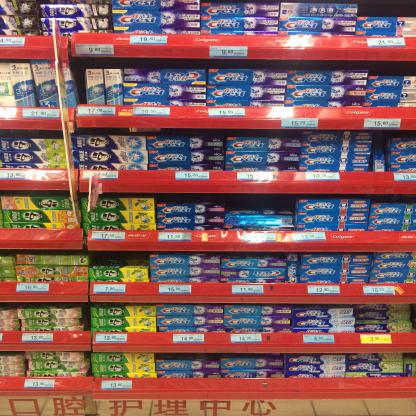Void: (232, 194, 291, 208), (90, 254, 148, 266), (362, 3, 410, 15), (374, 63, 412, 74)
